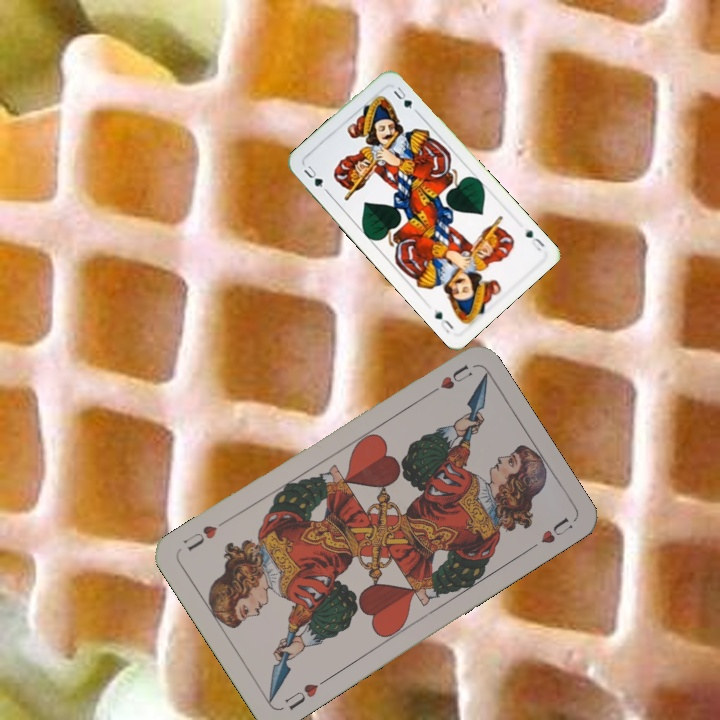GU: (520, 224, 547, 254), (299, 161, 326, 190)
HU: (422, 360, 475, 399), (280, 674, 330, 713)
